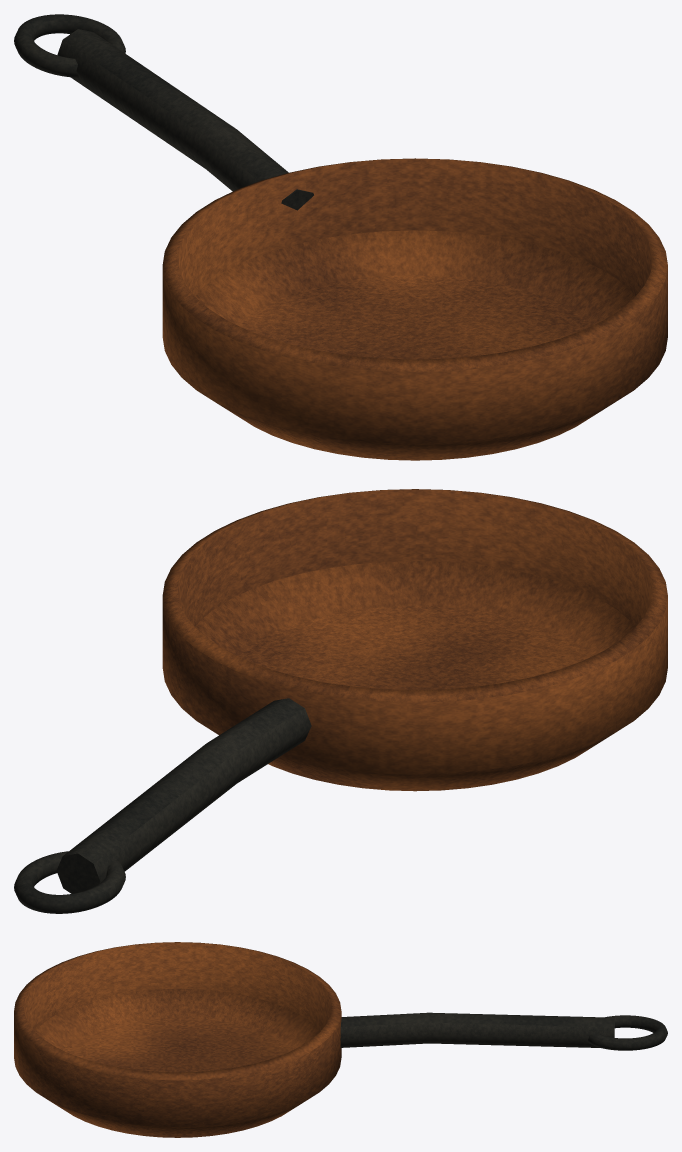
The model's file is CopperPan.fbx.
The picture shows the model from 3 angles, top to bottom: view 1: azimuth 30°, elevation 25°; view 2: azimuth 150°, elevation 25°; view 3: azimuth 270°, elevation 25°; orthographic projection. The views are drawn at different scales.
Parts seen in each view (by area): view 1: CopperPan_Copper, CopperPan_Iron; view 2: CopperPan_Copper, CopperPan_Iron; view 3: CopperPan_Copper, CopperPan_Iron.
Boxes of the visible parts, x1,y1,x2,y2 form: CopperPan_Copper: (162, 158, 667, 460); CopperPan_Iron: (14, 14, 313, 210); CopperPan_Copper: (162, 489, 667, 791); CopperPan_Iron: (14, 698, 311, 913); CopperPan_Copper: (14, 942, 341, 1137); CopperPan_Iron: (340, 1012, 667, 1050).
Size of the model in its own units: 30 by 7.6 by 59.9.
